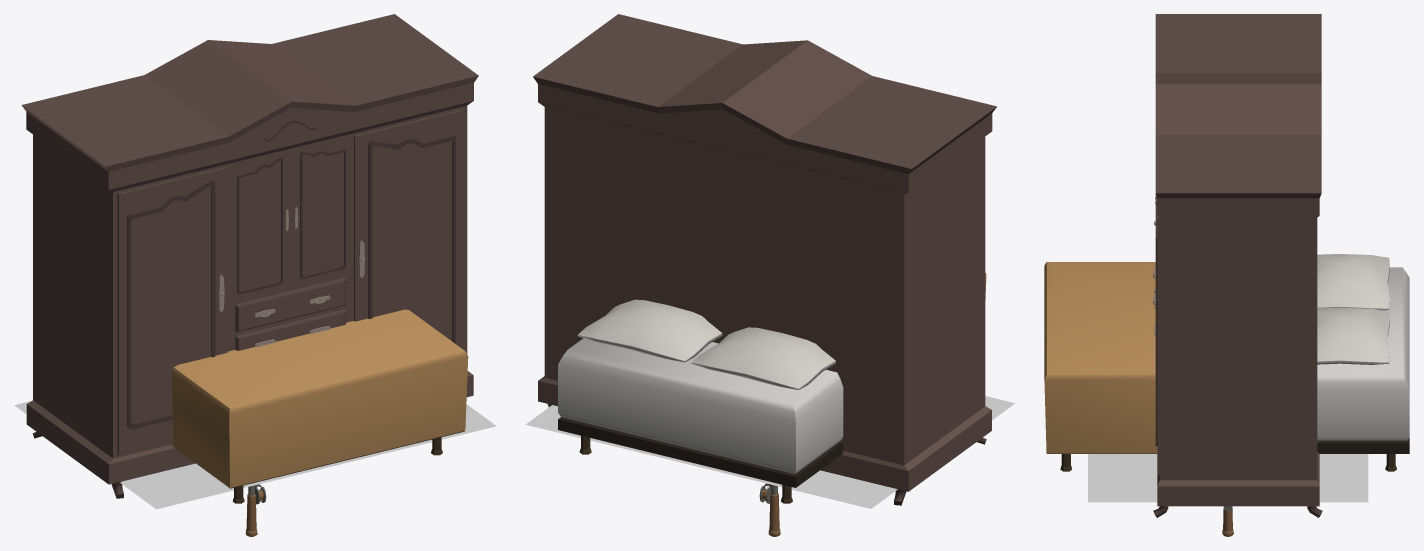
File: AssetsBRUMAS.fbx
3 renders of one model, left to right at view 1: azimuth 30°, elevation 25°; view 2: azimuth 150°, elevation 25°; view 3: azimuth 270°, elevation 25°, orthographic. The views are drawn at different scales.
Parts seen in each view (by area): view 1: Guarda Roupas, Cama, Tapete, Vara de pesca; view 2: Guarda Roupas, Cama, Tapete, Vara de pesca; view 3: Guarda Roupas, Cama, Tapete.
Boxes of the visible parts, <box> form: Guarda Roupas: <box>21,14,478,498</box>; Cama: <box>172,309,468,503</box>; Tapete: <box>14,401,496,509</box>; Vara de pesca: <box>245,484,266,536</box>; Guarda Roupas: <box>533,14,996,505</box>; Cama: <box>558,273,986,503</box>; Tapete: <box>526,396,1014,508</box>; Vara de pesca: <box>759,483,780,536</box>; Guarda Roupas: <box>1153,14,1322,517</box>; Cama: <box>1044,254,1409,471</box>; Tapete: <box>1088,454,1368,502</box>.
Size of the model in its own units: 220 by 259 by 189.
